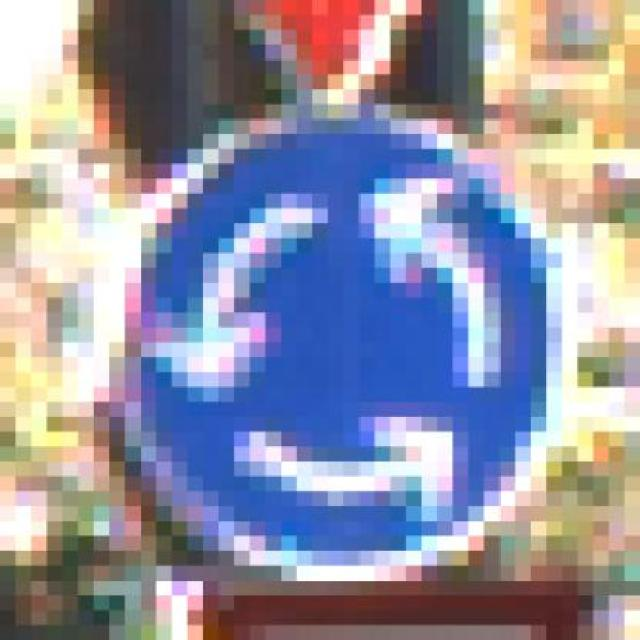Round-About: (47, 104, 578, 610)
